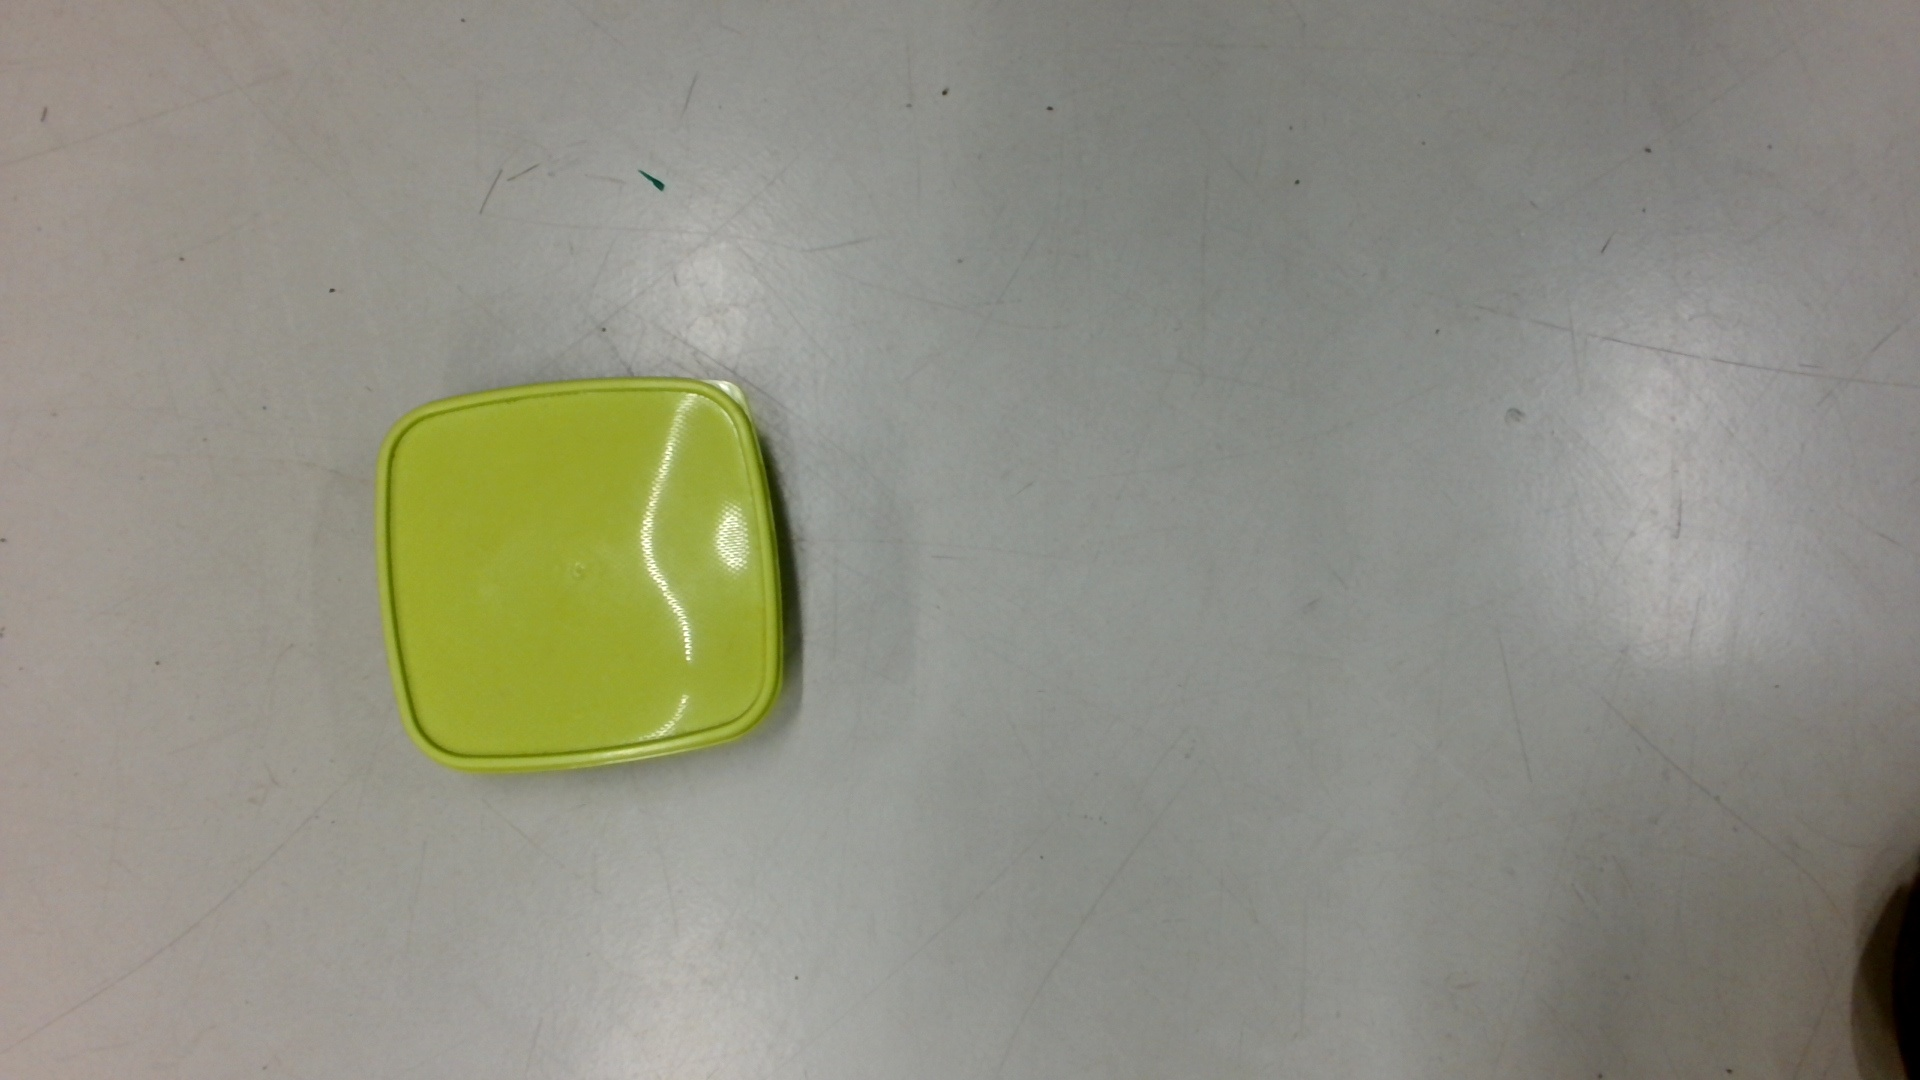Box: (365, 371, 794, 785)
